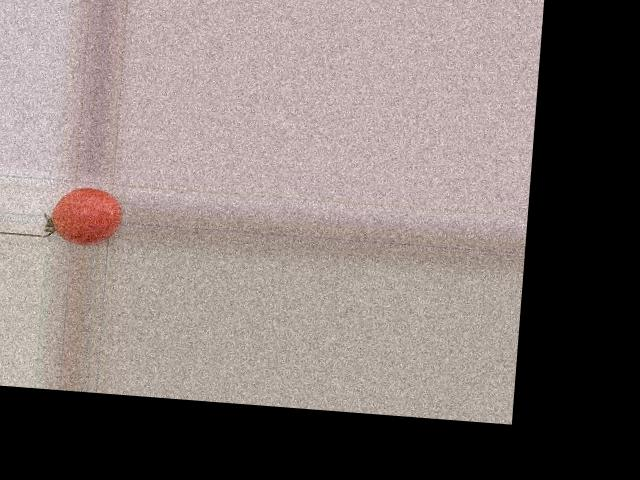tomato: (49, 185, 123, 247)
